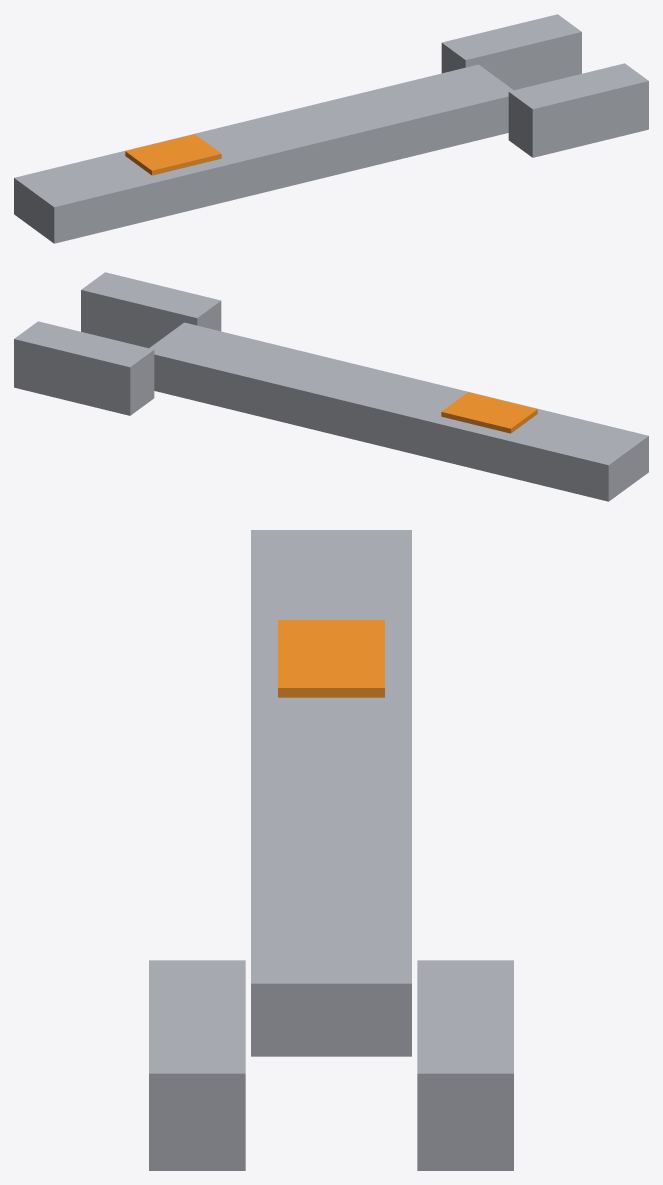
Rendered from tool_wrench.glb.
3 views of the same model, one above another, from view 1: azimuth 30°, elevation 25°; view 2: azimuth 150°, elevation 25°; view 3: azimuth 270°, elevation 25° (orthographic). The views are drawn at different scales.
Visible parts, largest first — view 1: handle_tool_chrome, jaw_tool_chrome, tag_price_tag; view 2: handle_tool_chrome, jaw_tool_chrome, tag_price_tag; view 3: handle_tool_chrome, jaw_tool_chrome, tag_price_tag.
Boxes of the visible parts, left/top/right/bottom form: handle_tool_chrome: left=14, top=64, right=513, bottom=243; jaw_tool_chrome: left=441, top=14, right=648, bottom=157; tag_price_tag: left=125, top=134, right=221, bottom=175; handle_tool_chrome: left=149, top=322, right=648, bottom=501; jaw_tool_chrome: left=14, top=272, right=221, bottom=415; tag_price_tag: left=441, top=392, right=537, bottom=433; handle_tool_chrome: left=251, top=530, right=411, bottom=1056; jaw_tool_chrome: left=149, top=960, right=513, bottom=1170; tag_price_tag: left=278, top=620, right=384, bottom=697.
Size of the model in its own units: 0.245 by 0.02 by 0.068.
